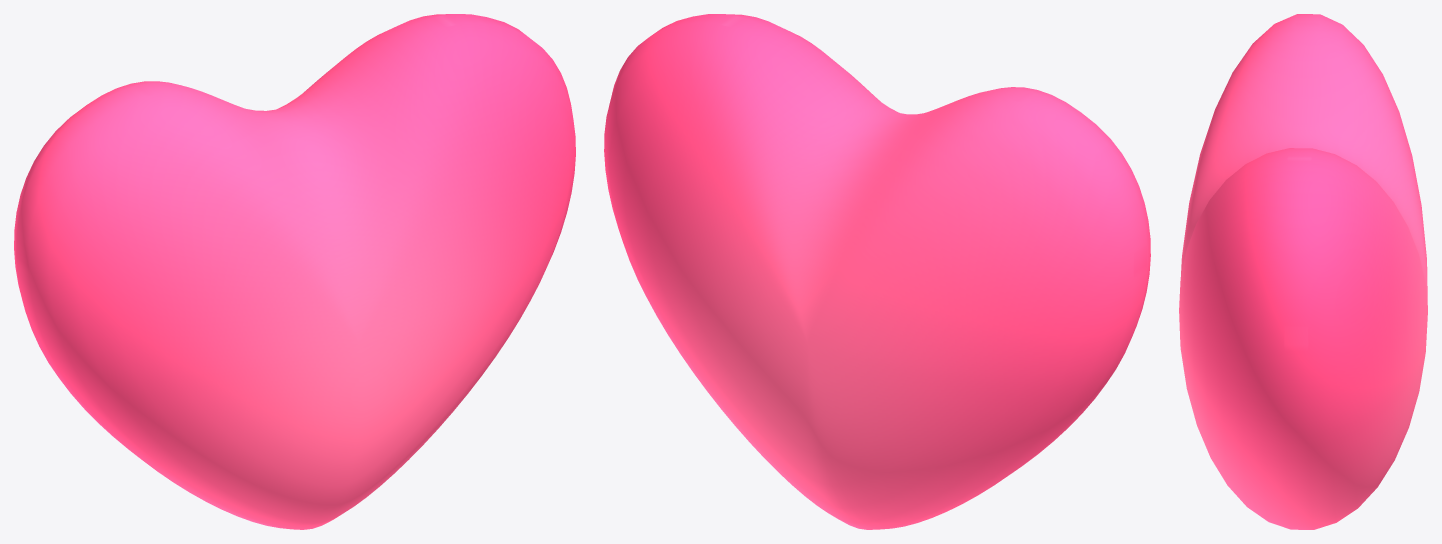
Rendered from heart-vivid-v5.glb.
The picture shows the model from 3 angles, left to right: view 1: azimuth 30°, elevation 25°; view 2: azimuth 150°, elevation 25°; view 3: azimuth 270°, elevation 25°; orthographic projection. The views are drawn at different scales.
Parts seen in each view (by area): view 1: Heart_Glass; view 2: Heart_Glass; view 3: Heart_Glass.
Boxes of the visible parts, x1=… form: Heart_Glass: x1=14, y1=14, x2=575, y2=529; Heart_Glass: x1=604, y1=14, x2=1150, y2=529; Heart_Glass: x1=1179, y1=14, x2=1427, y2=529.
Bounding box in the file's own units: 0.0801 × 0.0665 × 0.0347.
Materials: 1 (1 with a texture image).
